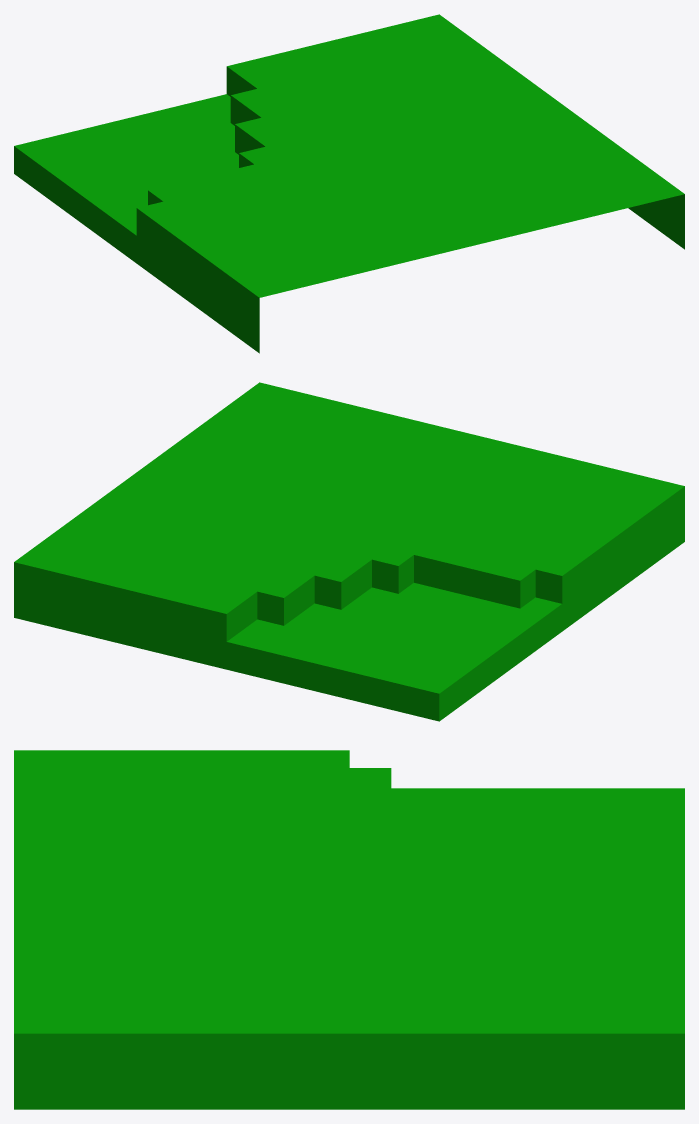
Rendered from Corner10.fbx.
3 renders of one model, top to bottom at view 1: azimuth 30°, elevation 25°; view 2: azimuth 150°, elevation 25°; view 3: azimuth 270°, elevation 25°, orthographic. The views are drawn at different scales.
Parts seen in each view (by area): view 1: Matrix; view 2: Matrix; view 3: Matrix.
Part boxes in pixels (bbox=[...]): Matrix: bbox=[14, 14, 684, 353]; Matrix: bbox=[14, 382, 684, 721]; Matrix: bbox=[14, 750, 684, 1109].
Bounding box in the file's own units: 16 × 2 × 16.
Materials: 1 (1 with a texture image).
